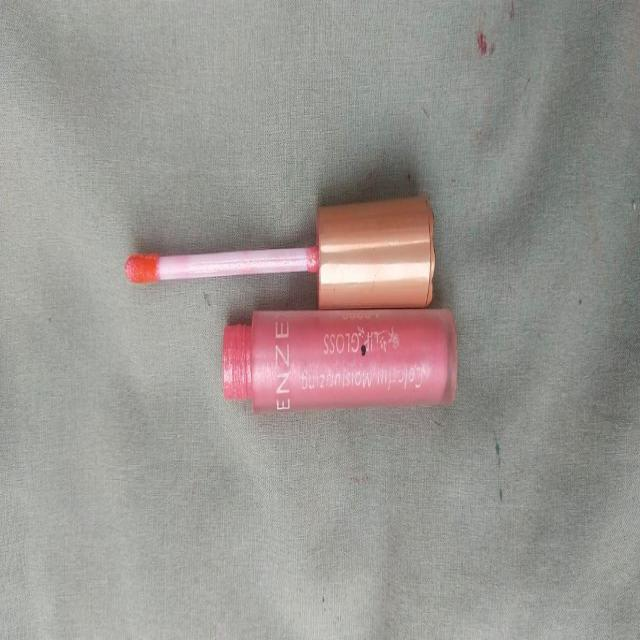lip gloss: (119, 190, 444, 323), (206, 294, 465, 431)
